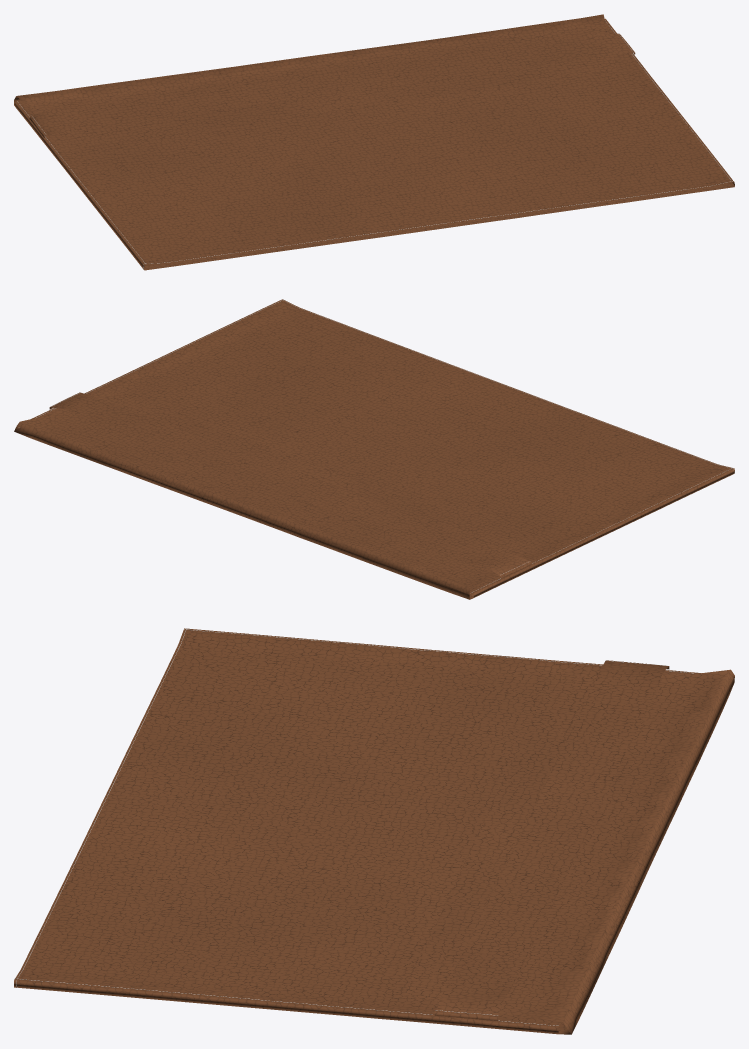
The model's file is KDscion-L1-Premium leather ipad or macbook envelope cover.glb.
The picture shows the model from 3 angles, top to bottom: view 1: azimuth 30°, elevation 25°; view 2: azimuth 150°, elevation 25°; view 3: azimuth 270°, elevation 25°; orthographic projection. The views are drawn at different scales.
Visible parts, largest first — view 1: Cloth; view 2: Cloth; view 3: Cloth.
Part boxes in pixels (box(x1,y1,x2,y2)): Cloth: box(14, 14, 734, 270); Cloth: box(14, 299, 734, 599); Cloth: box(14, 628, 734, 1034).
Size of the model in its own units: 0.5851 by 0.0122 by 0.4455.
Materials: 4 (4 with a texture image).
